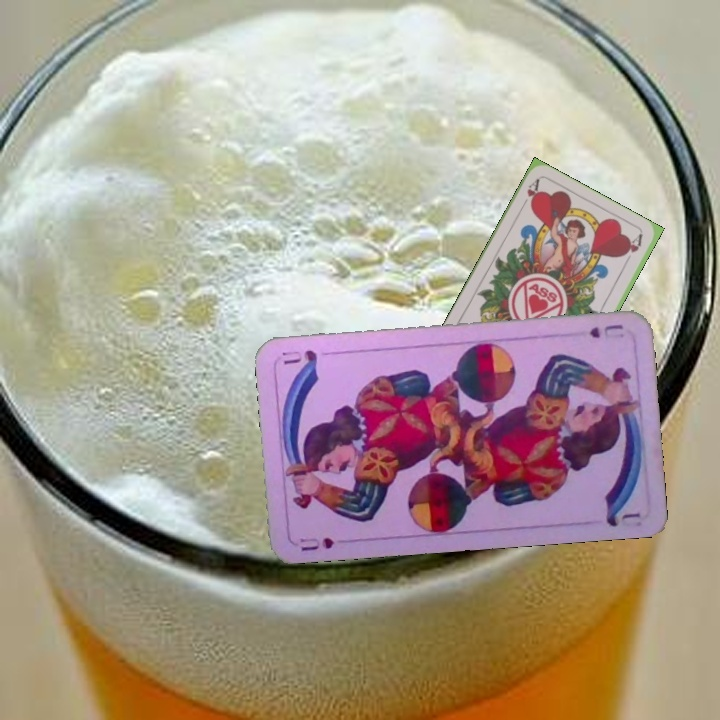HA: (516, 175, 542, 213)
SU: (585, 320, 627, 342), (296, 533, 336, 554)
